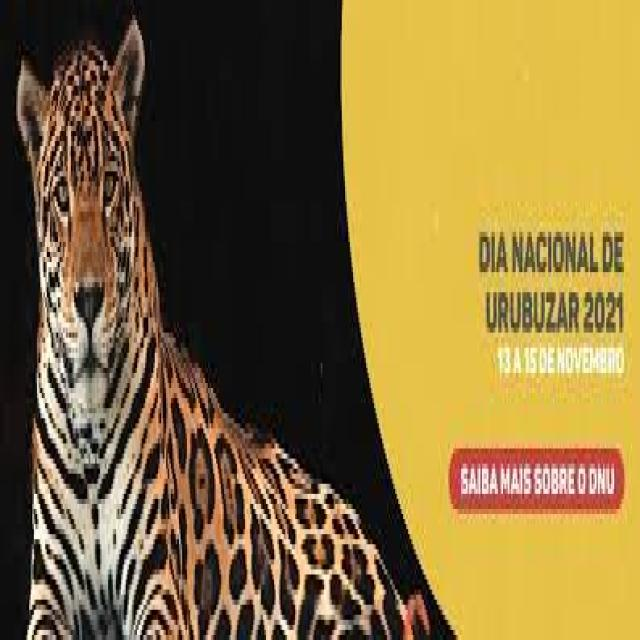Jaguar: (14, 15, 337, 640)
